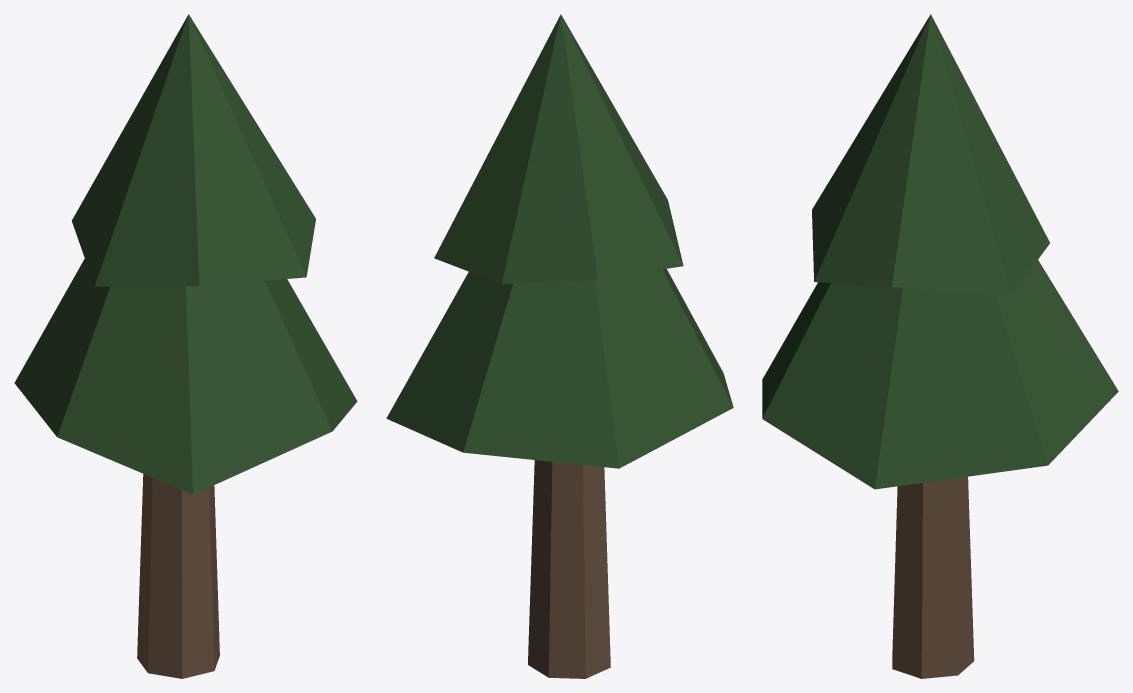
File: tree1.fbx
The picture shows the model from 3 angles, left to right: view 1: azimuth 30°, elevation 25°; view 2: azimuth 150°, elevation 25°; view 3: azimuth 270°, elevation 25°; orthographic projection.
Visible parts, largest first — view 1: Cone; view 2: Cone; view 3: Cone.
Boxes of the visible parts, x1,y1,x2,y2 form: Cone: [14, 14, 357, 678]; Cone: [386, 14, 733, 678]; Cone: [762, 14, 1118, 678].
Size of the model in its own units: 351 by 738 by 366.
